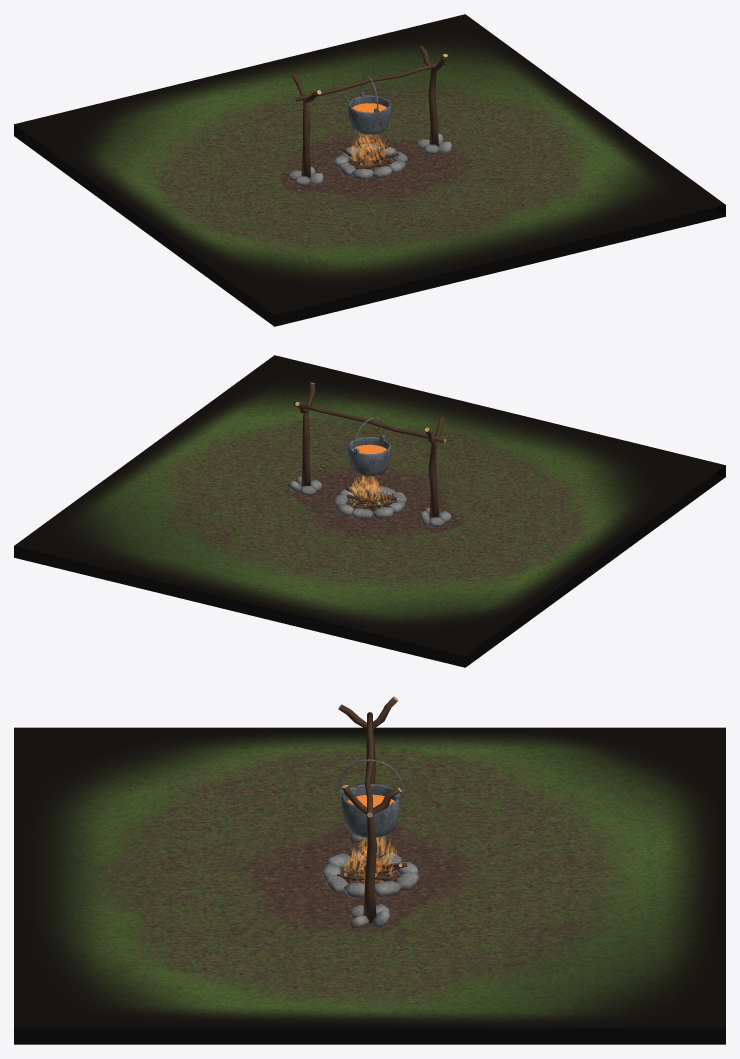
3 renders of one model, top to bottom at view 1: azimuth 30°, elevation 25°; view 2: azimuth 150°, elevation 25°; view 3: azimuth 270°, elevation 25°, orthographic. The views are drawn at different scales.
Visible parts, largest first — view 1: Ground_6, Pan_3, Stick Base R_1, Stick Base L_0, Fire_5, Stick Fire_4, Stick Suport_2; view 2: Ground_6, Pan_3, Stick Base L_0, Stick Base R_1, Stick Fire_4, Stick Suport_2, Fire_5; view 3: Ground_6, Pan_3, Stick Base R_1, Stick Fire_4, Fire_5, Stick Base L_0, Stick Suport_2.
Boxes of the visible parts, x1=… form: Ground_6: x1=14, y1=14, x2=725, y2=326; Pan_3: x1=348, y1=75, x2=390, y2=134; Stick Base R_1: x1=418, y1=45, x2=447, y2=145; Stick Base L_0: x1=292, y1=74, x2=321, y2=177; Fire_5: x1=350, y1=133, x2=392, y2=165; Stick Fire_4: x1=342, y1=137, x2=399, y2=170; Stick Suport_2: x1=293, y1=62, x2=446, y2=101; Ground_6: x1=14, y1=355, x2=725, y2=667; Pan_3: x1=348, y1=417, x2=390, y2=476; Stick Base L_0: x1=425, y1=416, x2=444, y2=518; Stick Base R_1: x1=295, y1=382, x2=315, y2=486; Stick Fire_4: x1=345, y1=480, x2=398, y2=510; Stick Suport_2: x1=293, y1=402, x2=446, y2=442; Fire_5: x1=349, y1=476, x2=391, y2=507; Ground_6: x1=14, y1=727, x2=725, y2=1044; Pan_3: x1=338, y1=759, x2=403, y2=837; Stick Base R_1: x1=342, y1=785, x2=401, y2=923; Stick Fire_4: x1=337, y1=847, x2=407, y2=883; Fire_5: x1=344, y1=836, x2=396, y2=882; Stick Base L_0: x1=338, y1=696, x2=398, y2=784; Stick Suport_2: x1=364, y1=712, x2=374, y2=817.
Bounding box in the file's own units: 12 × 2.85 × 12.
8 materials, 6 textured.
